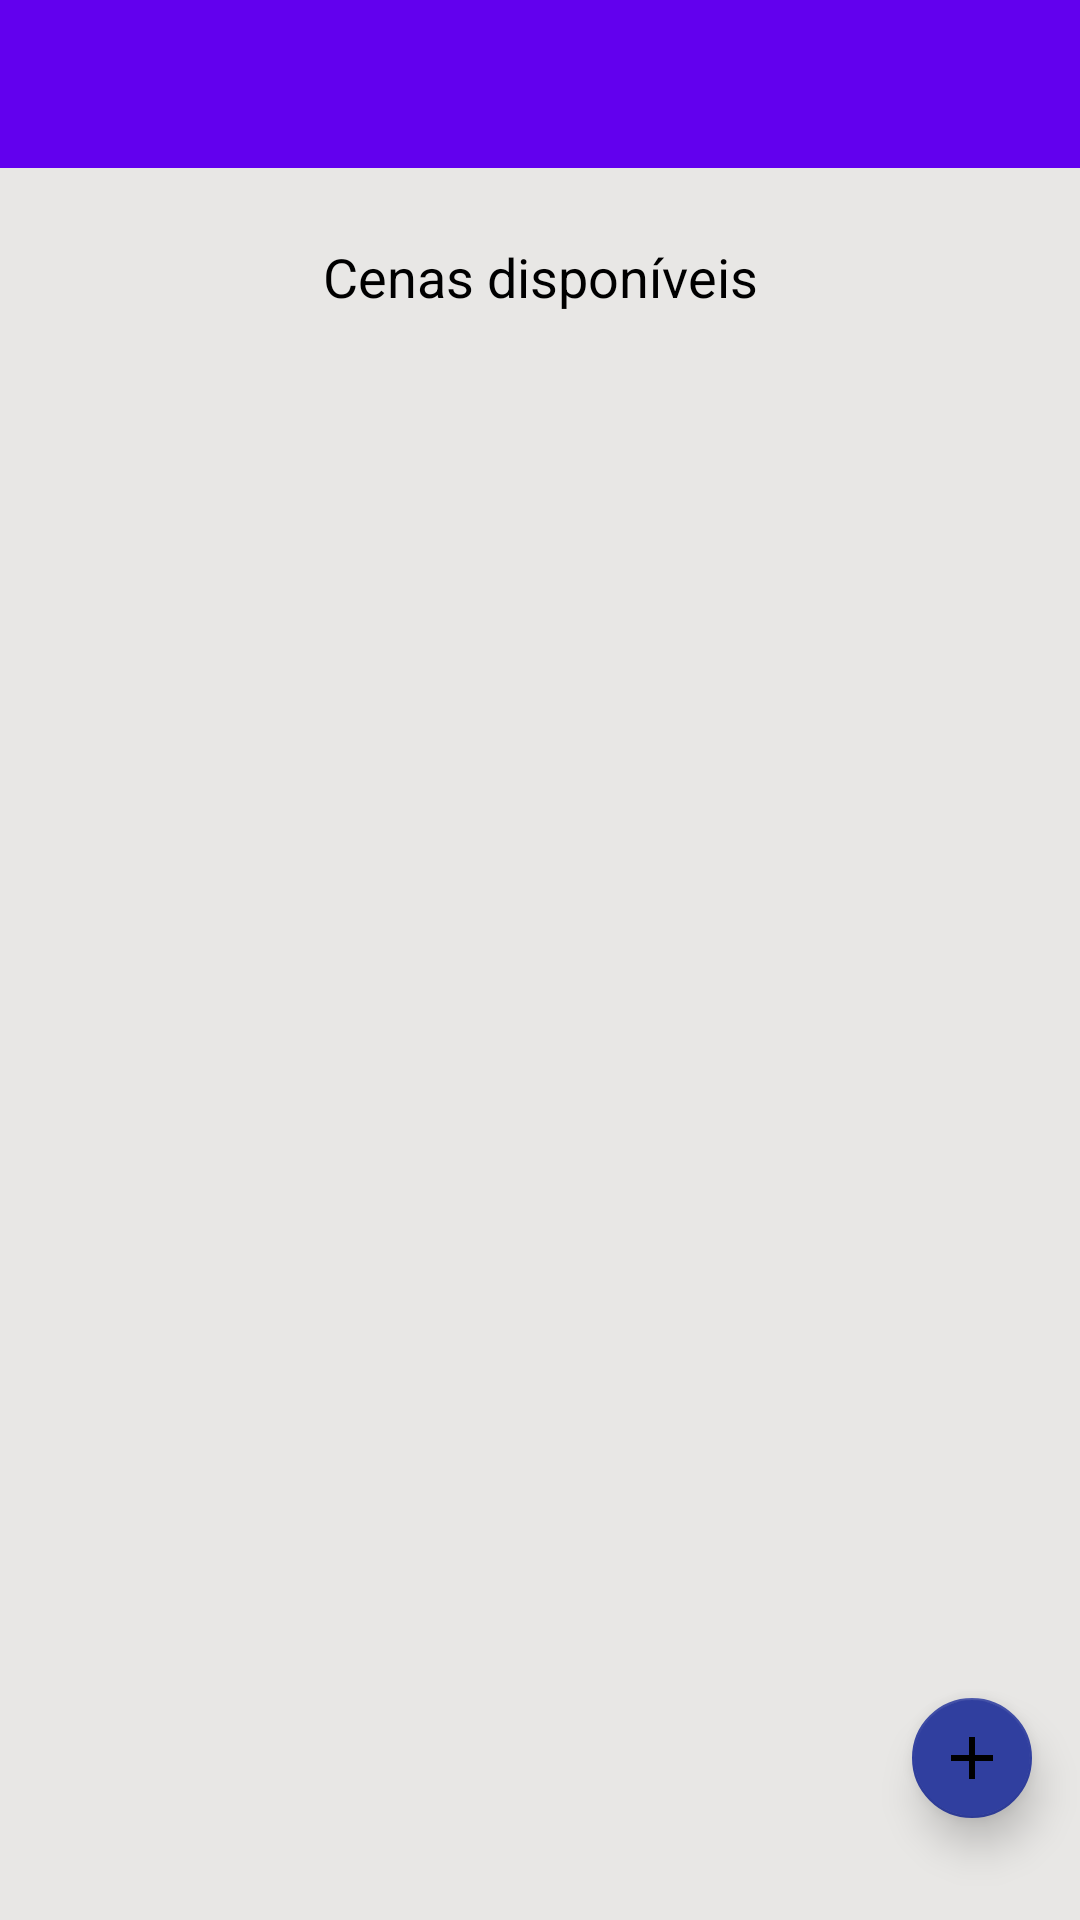

Icons on this 1080*1920 Android screen, each with its box as (x1, y1, x2, y2):
add: (912, 1698, 1033, 1830)
